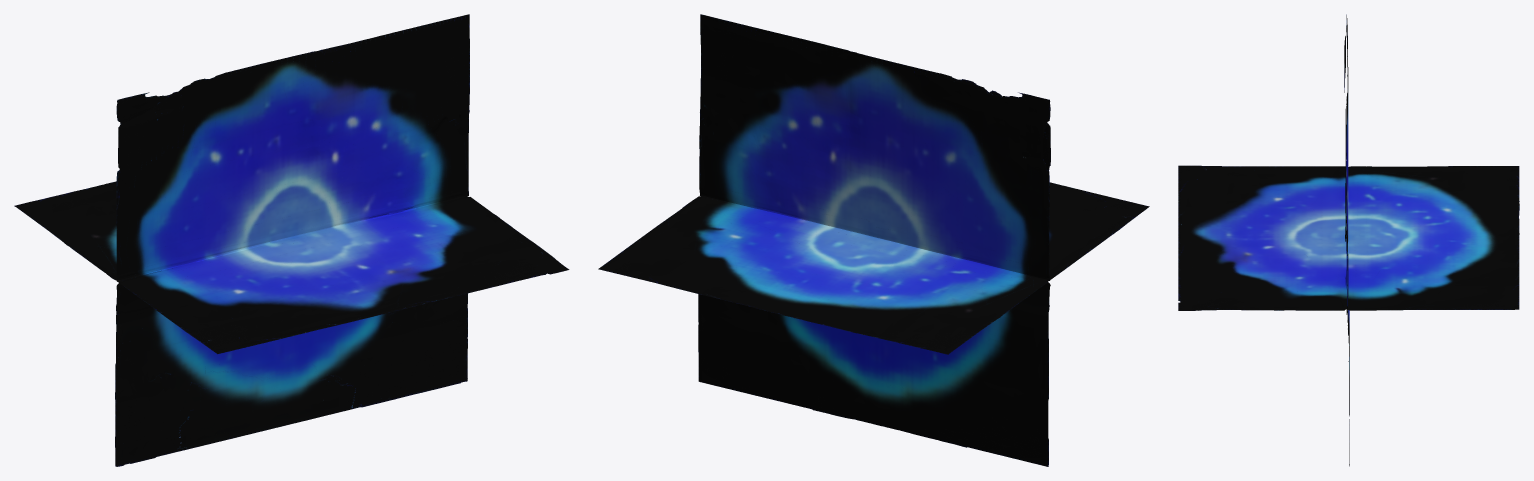
File: core.glb
3 views of the same model, side by side, from view 1: azimuth 30°, elevation 25°; view 2: azimuth 150°, elevation 25°; view 3: azimuth 270°, elevation 25° (orthographic). The views are drawn at different scales.
Parts seen in each view (by area): view 1: world; view 2: world; view 3: world.
Part boxes in pixels (<box>): world: <box>14,14,569,466</box>; world: <box>598,14,1149,466</box>; world: <box>1178,14,1519,466</box>.
Bounding box in the file's own units: 1 × 1 × 1.
1 material, 1 textured.
